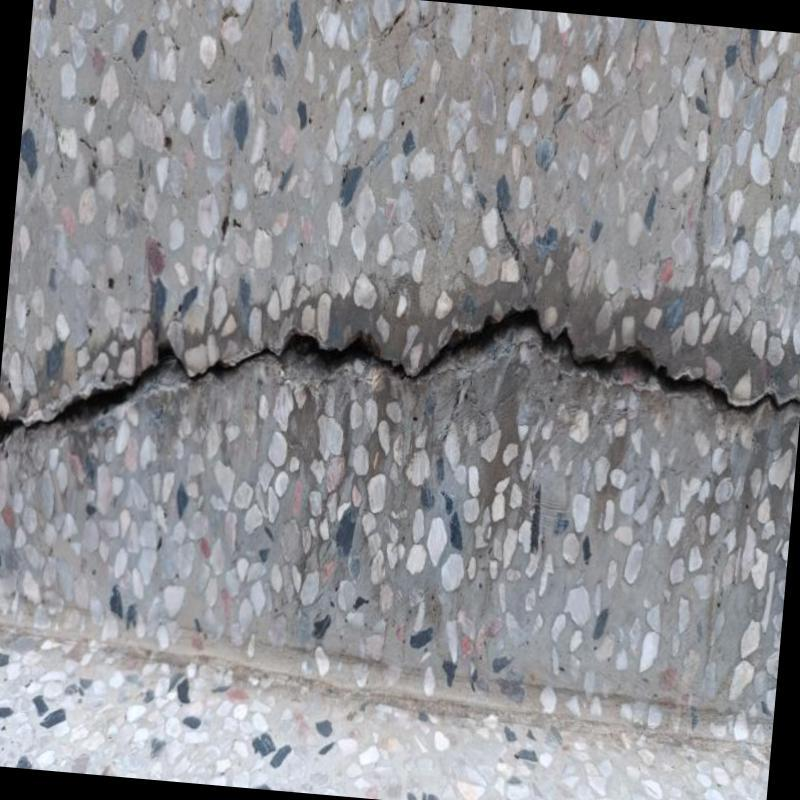crack: (0, 308, 800, 442)
